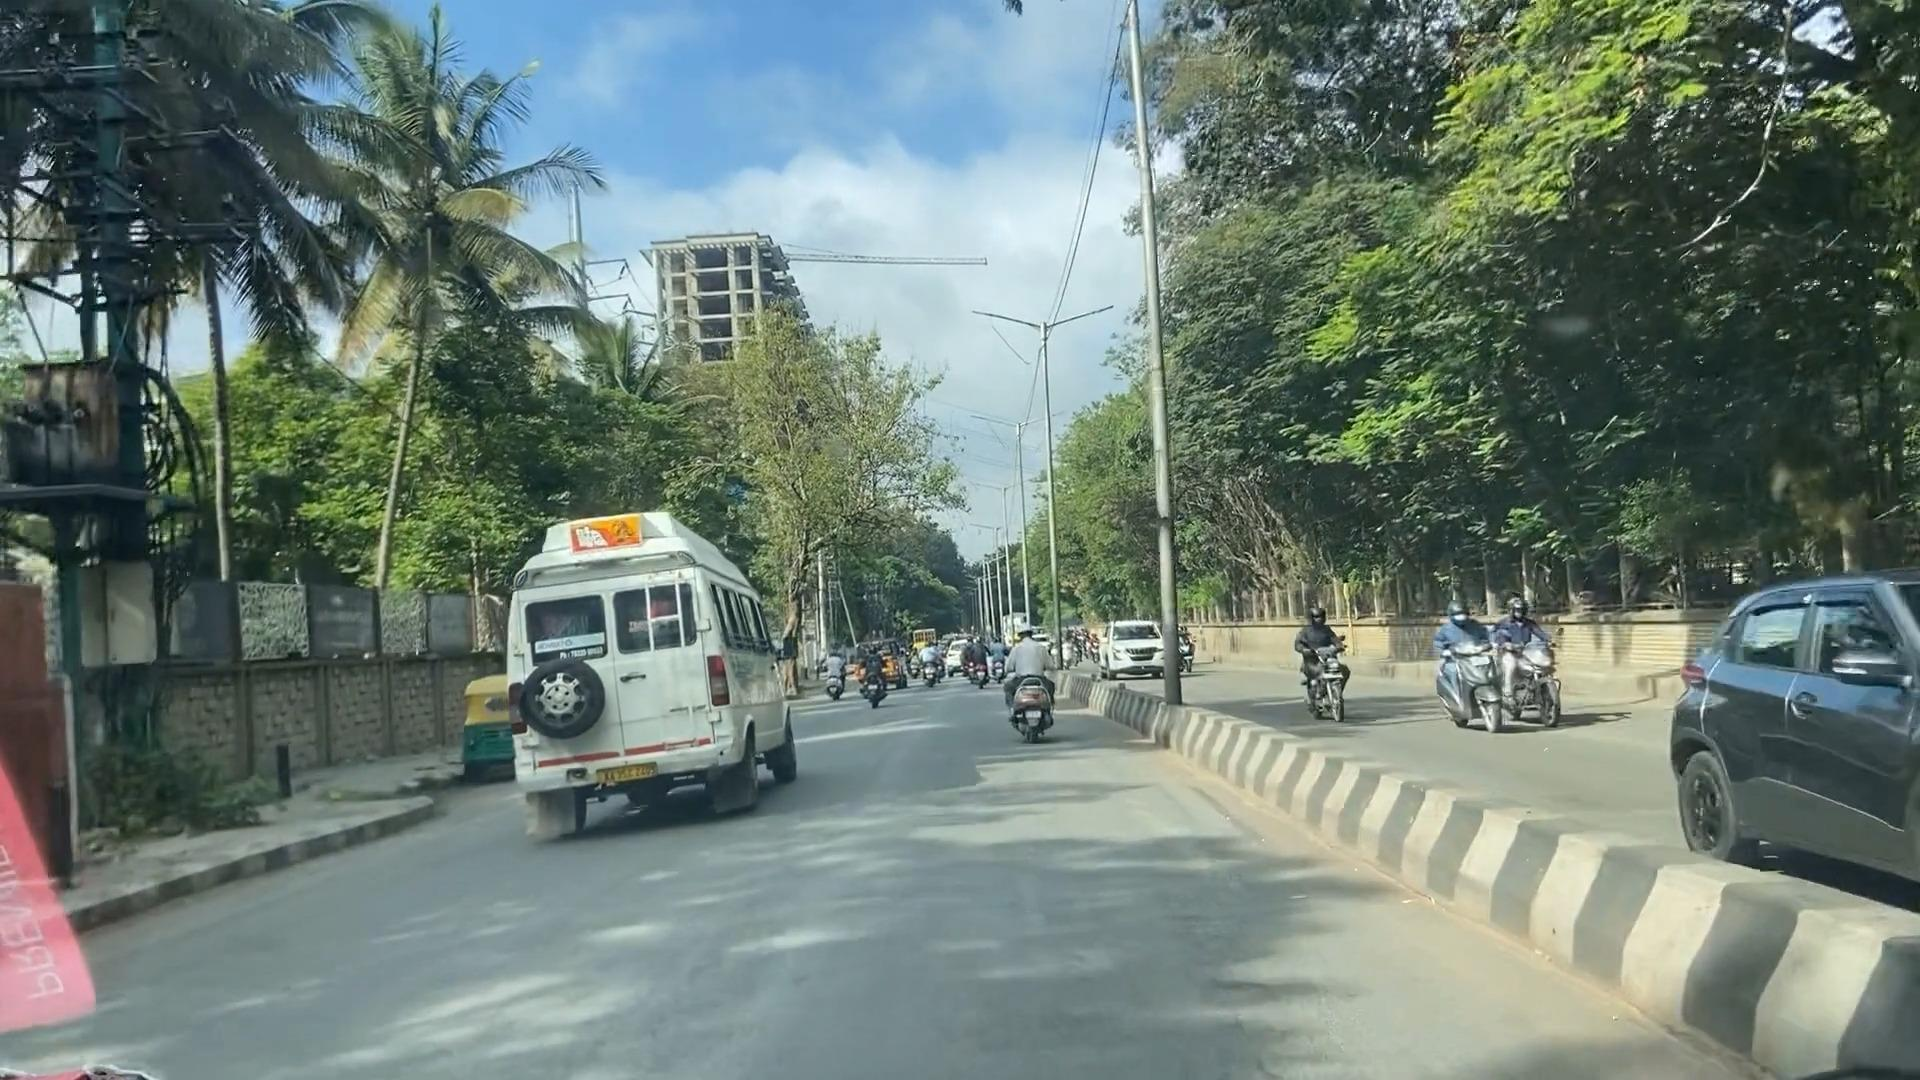HMV: (505, 541, 807, 811)
